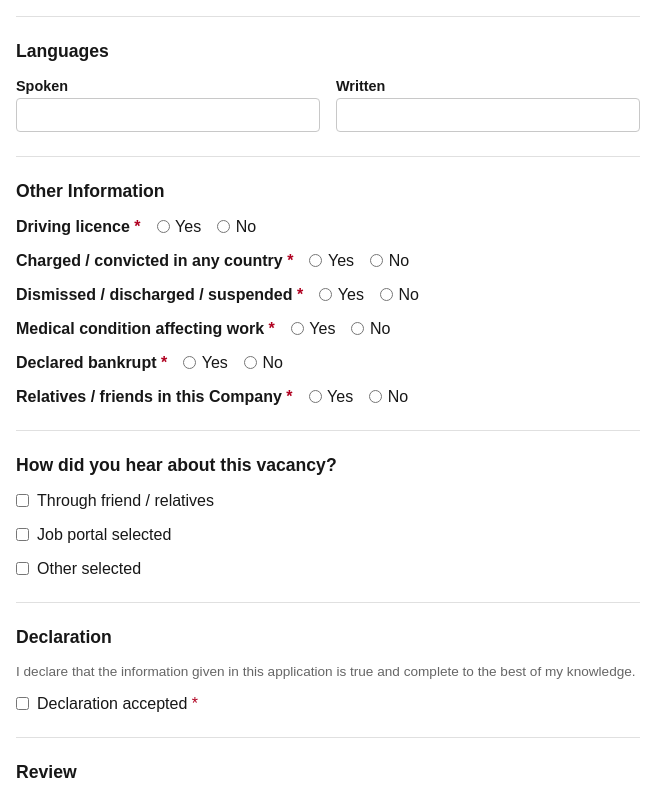
Scenario: CandidateForm › reveals both name and department when relatives/friends is answered Yes
The image size is (657, 796).
(page scrolled)
Click the radio button with aria-label ": Yes" at [315, 397], box [308,390,322,404]
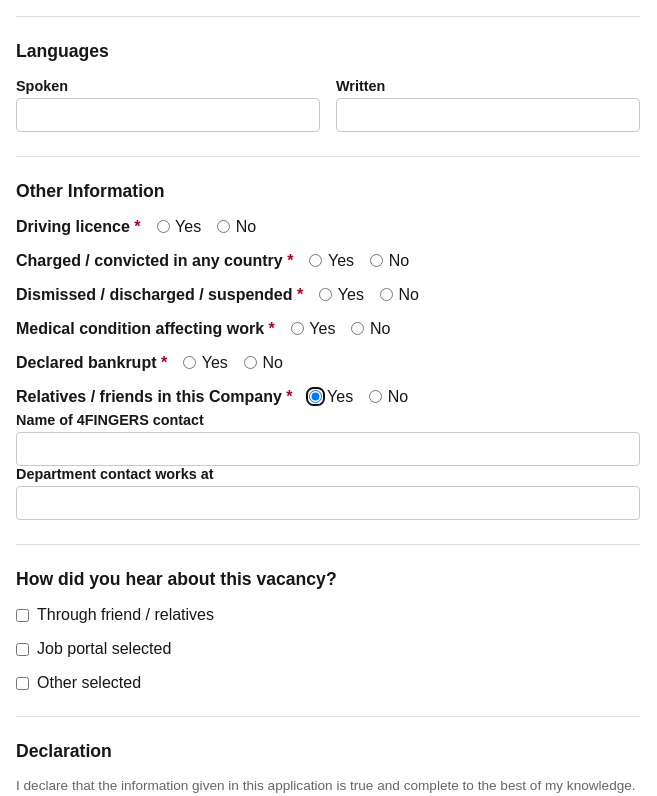
Check: the field labelled "Name of 4FINGERS contact" is shown, box [16,432,640,466]
Check: the field labelled "Department contact works at" is shown, box [16,486,640,520]
